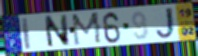6: (101, 11, 122, 45)
9: (131, 10, 150, 41)
I: (20, 17, 32, 51)
J: (154, 6, 178, 41)
M: (70, 11, 104, 47)
N: (43, 14, 71, 50)
